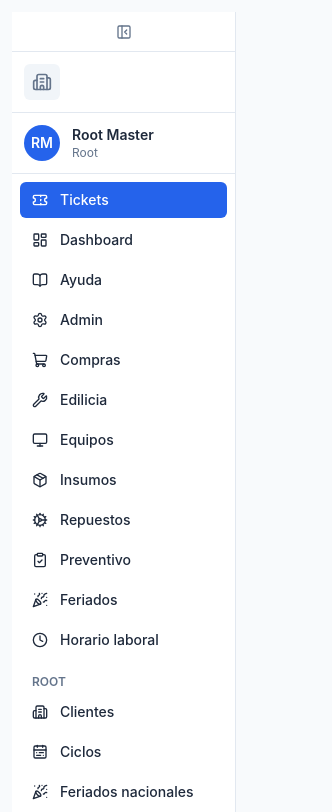
Test: AppSidebar › colapsado + ROOT → oculta el texto del header (rail angosto) pero conserva el link por href
Click the button named "Colapsar menú": x=124, y=32 [12,12,235,52]
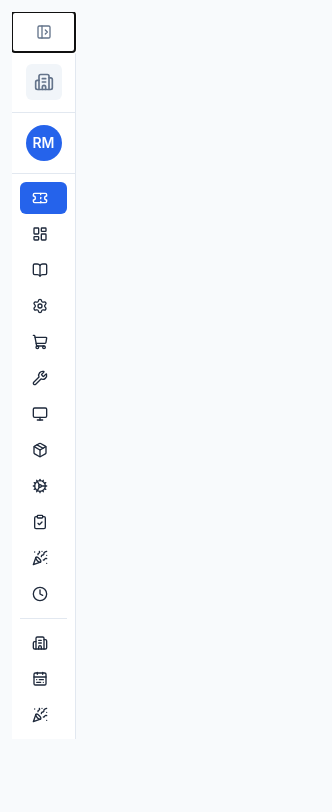
Expected: the link to "/admin/clientes" is shown, [32,635,48,651]
Expected: the text "Root" is gone
